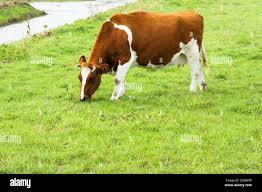cow: (78, 11, 207, 102)
